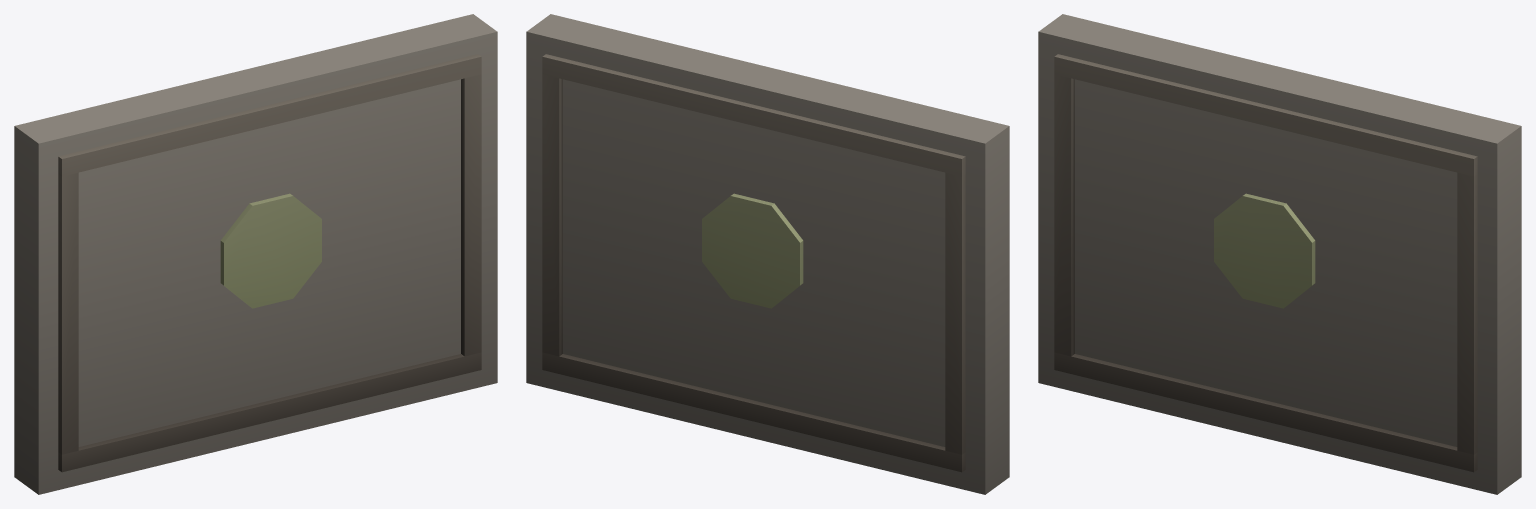
The model's file is ruins-door-low.glb.
3 renders of one model, left to right at view 1: azimuth 30°, elevation 25°; view 2: azimuth 150°, elevation 25°; view 3: azimuth 330°, elevation 25°, orthographic.
Parts seen in each view (by area): view 1: 0_ruins_door; view 2: 0_ruins_door; view 3: 0_ruins_door.
Boxes of the visible parts, <box> form: 0_ruins_door: <box>14,14,497,494</box>; 0_ruins_door: <box>526,14,1009,494</box>; 0_ruins_door: <box>1038,14,1521,494</box>.
Bounding box in the file's own units: 3.28 × 2.4 × 0.42.
